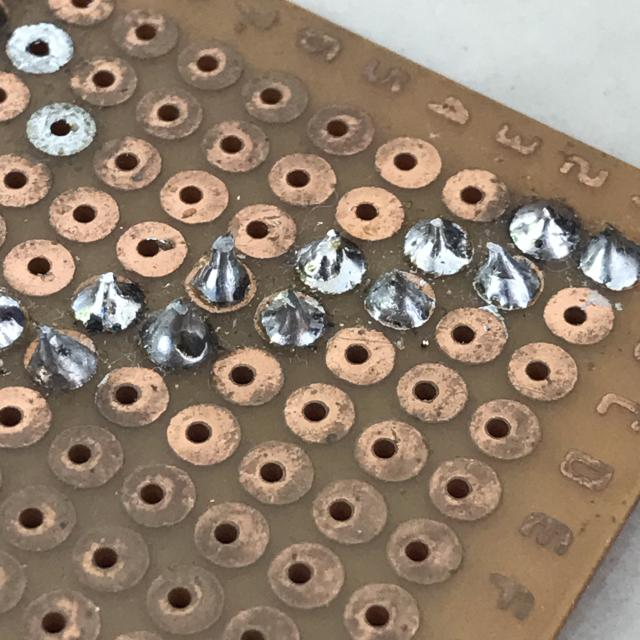good: (291, 229, 374, 301), (399, 212, 479, 282), (572, 218, 640, 300)
hole: (133, 299, 215, 375)
pad_less: (17, 322, 104, 399), (178, 247, 268, 321), (65, 269, 152, 341), (250, 287, 336, 358), (360, 268, 441, 336), (469, 250, 550, 316)
